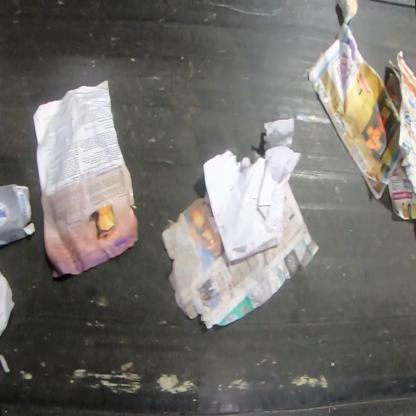cardboard: (0, 183, 36, 246)
